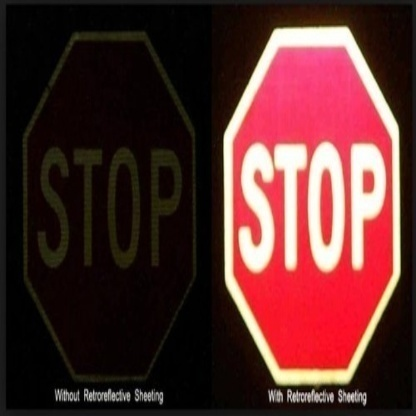stop: (223, 26, 400, 387)
